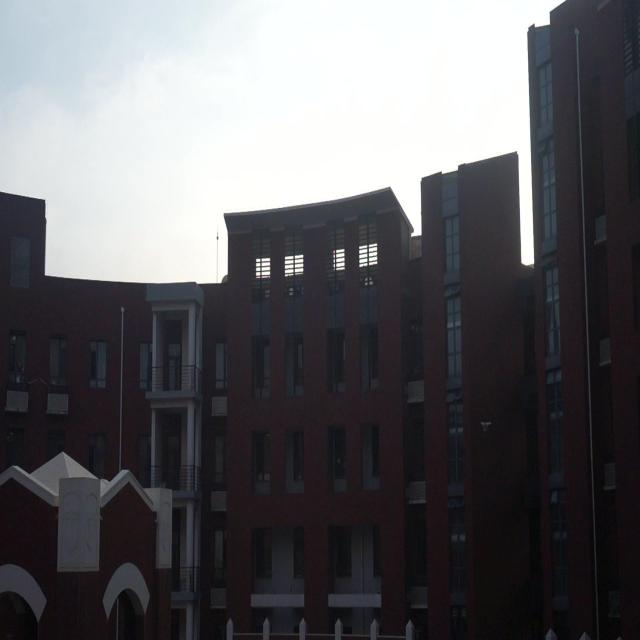drone: (478, 416, 492, 431)
